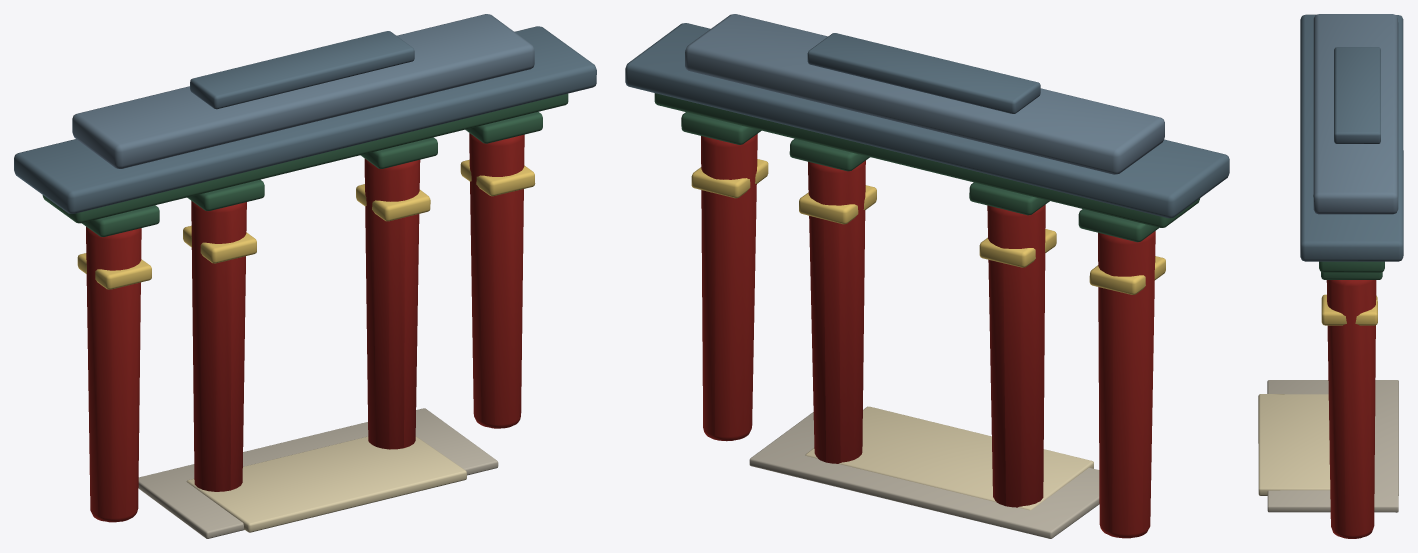
The picture shows the model from 3 angles, left to right: view 1: azimuth 30°, elevation 25°; view 2: azimuth 150°, elevation 25°; view 3: azimuth 270°, elevation 25°; orthographic projection. The views are drawn at different scales.
Parts seen in each view (by area): view 1: gate_f0f0378d; view 2: gate_f0f0378d; view 3: gate_f0f0378d.
Part boxes in pixels (bbox=[...]): gate_f0f0378d: bbox=[14, 14, 596, 538]; gate_f0f0378d: bbox=[625, 14, 1229, 538]; gate_f0f0378d: bbox=[1258, 14, 1403, 538].
Size of the model in its own units: 5.8 by 4.25 by 1.55.
